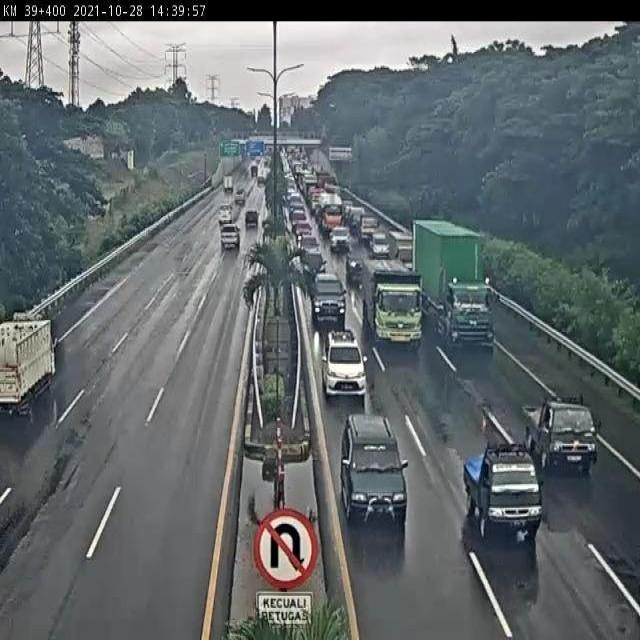big truck: (414, 220, 491, 348), (362, 250, 423, 342)
car: (463, 441, 543, 540), (338, 416, 405, 523), (523, 392, 599, 471), (322, 331, 369, 398), (309, 273, 347, 323), (302, 245, 326, 280), (344, 244, 366, 275), (366, 229, 391, 256), (355, 213, 377, 239), (219, 224, 240, 248), (216, 200, 236, 224), (329, 223, 348, 248), (244, 208, 259, 227)
small truck: (388, 231, 416, 268)
